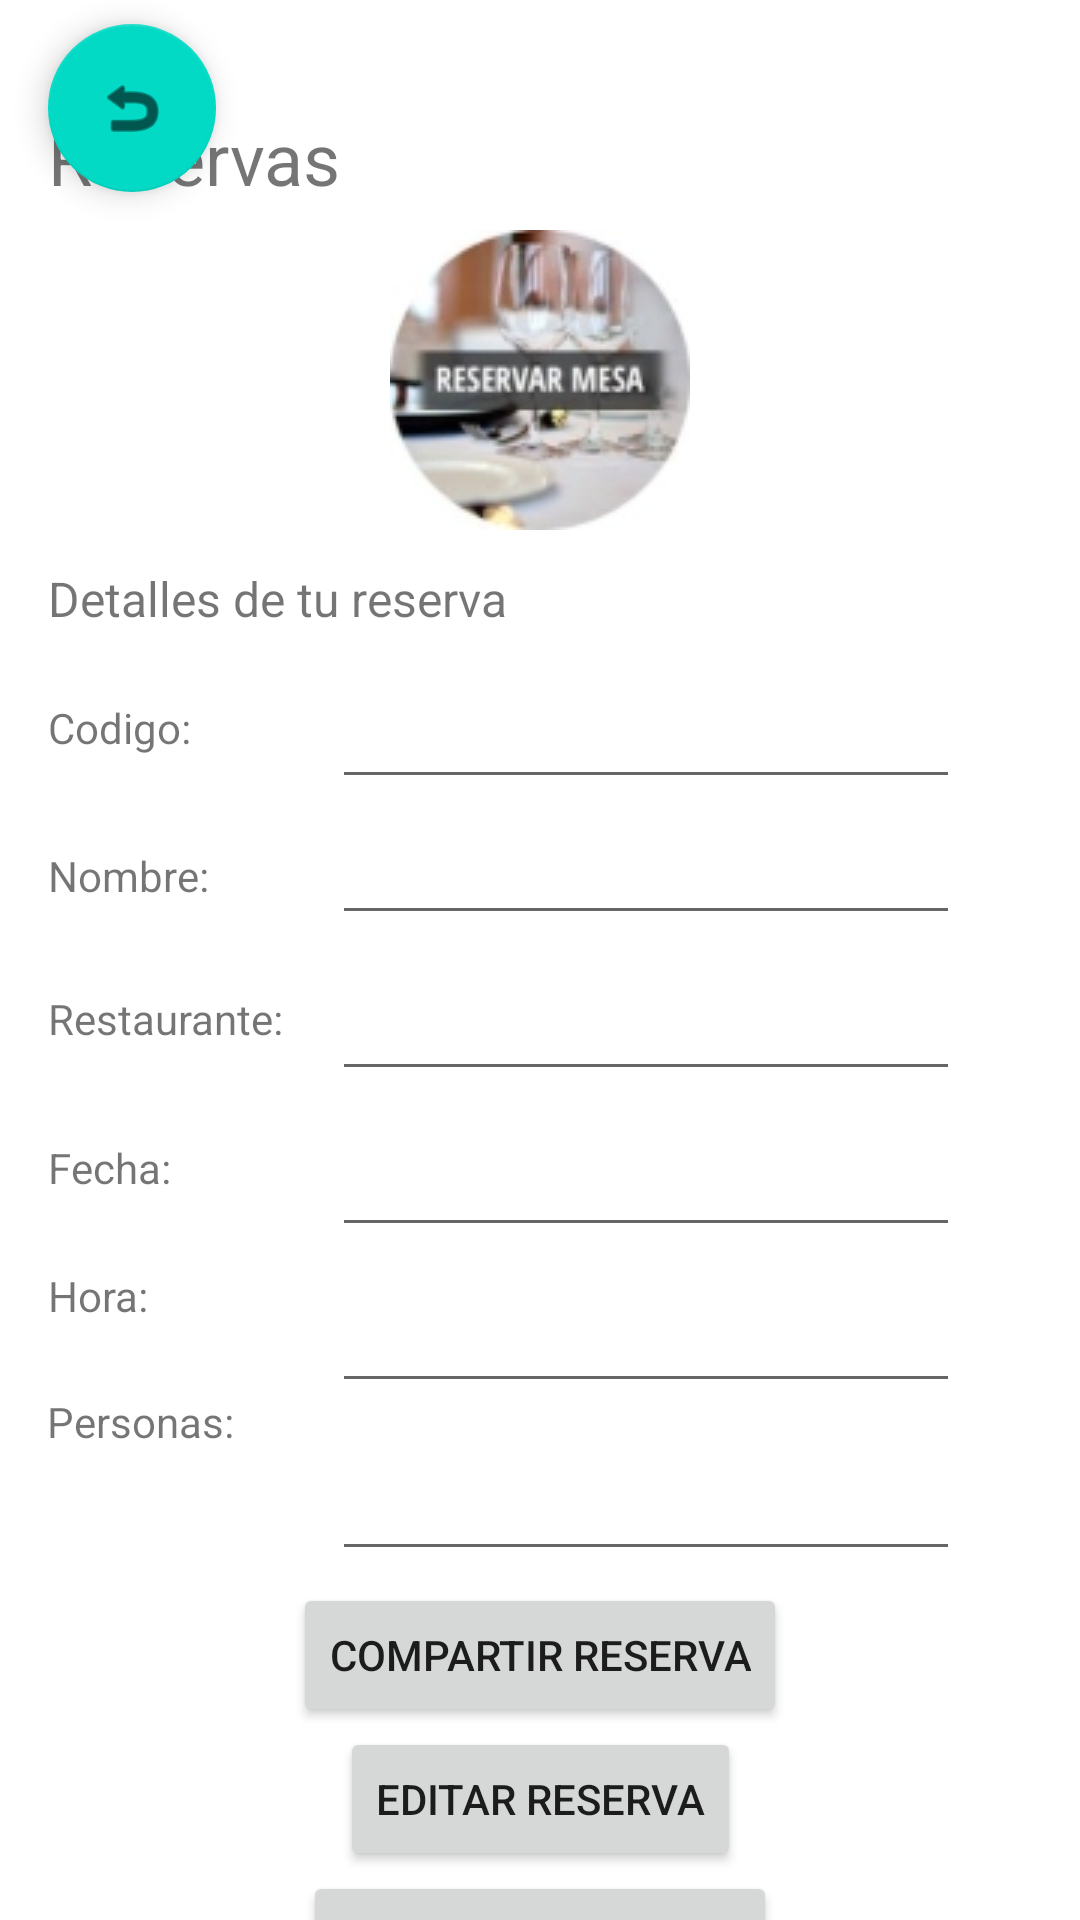

Where to tap for icons on this 1080 x 1920 app screen, as [x,y]:
revert: [132,108]
